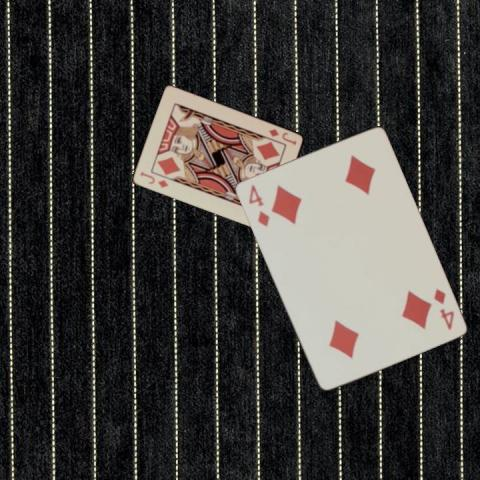4d: (245, 181, 271, 228), (430, 285, 455, 332)
Jd: (266, 126, 298, 147), (138, 168, 169, 189)
